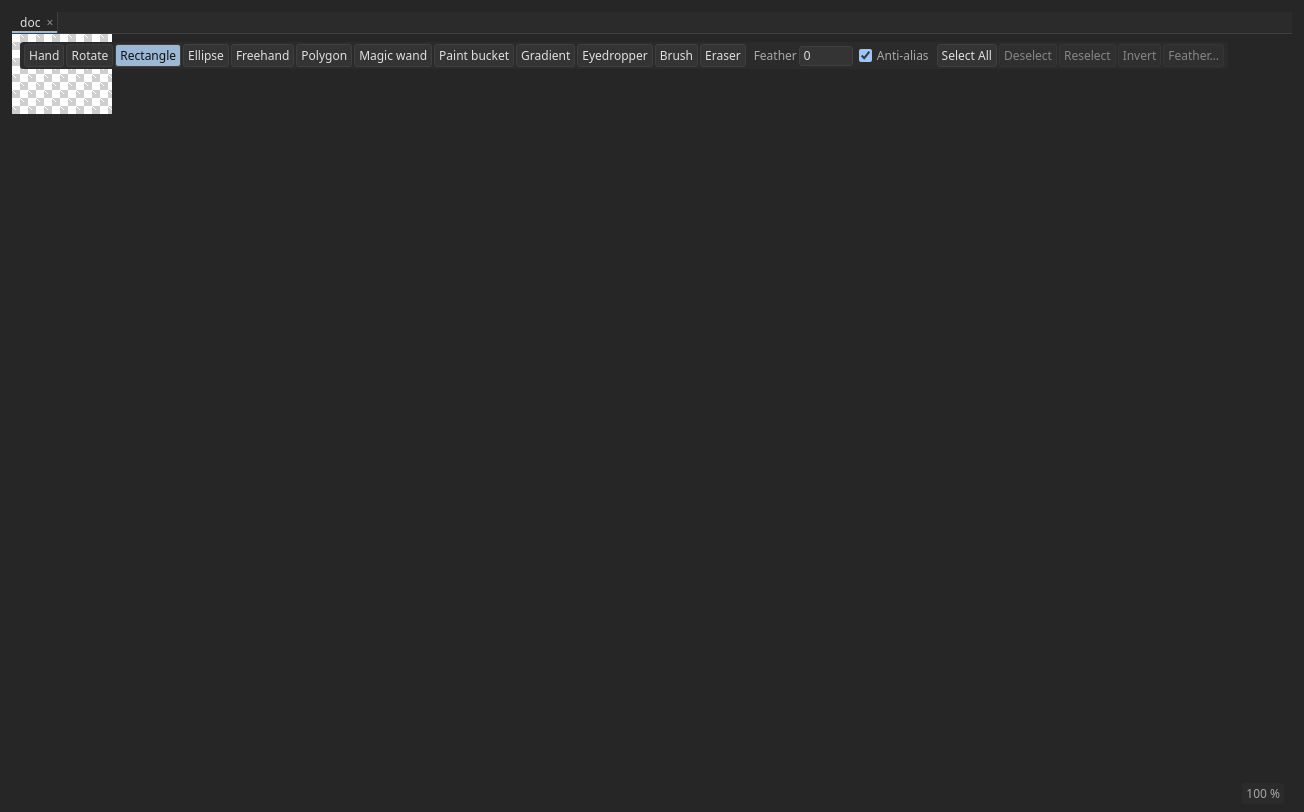
Test: EditorView gestures › Escape cancels a drag
The width and height of the screenshot is (1304, 812).
Step 1. Press the mouse on the element with test id "editor-viewport" → (652, 423), box top-left (12, 34), bottom-right (1292, 811)
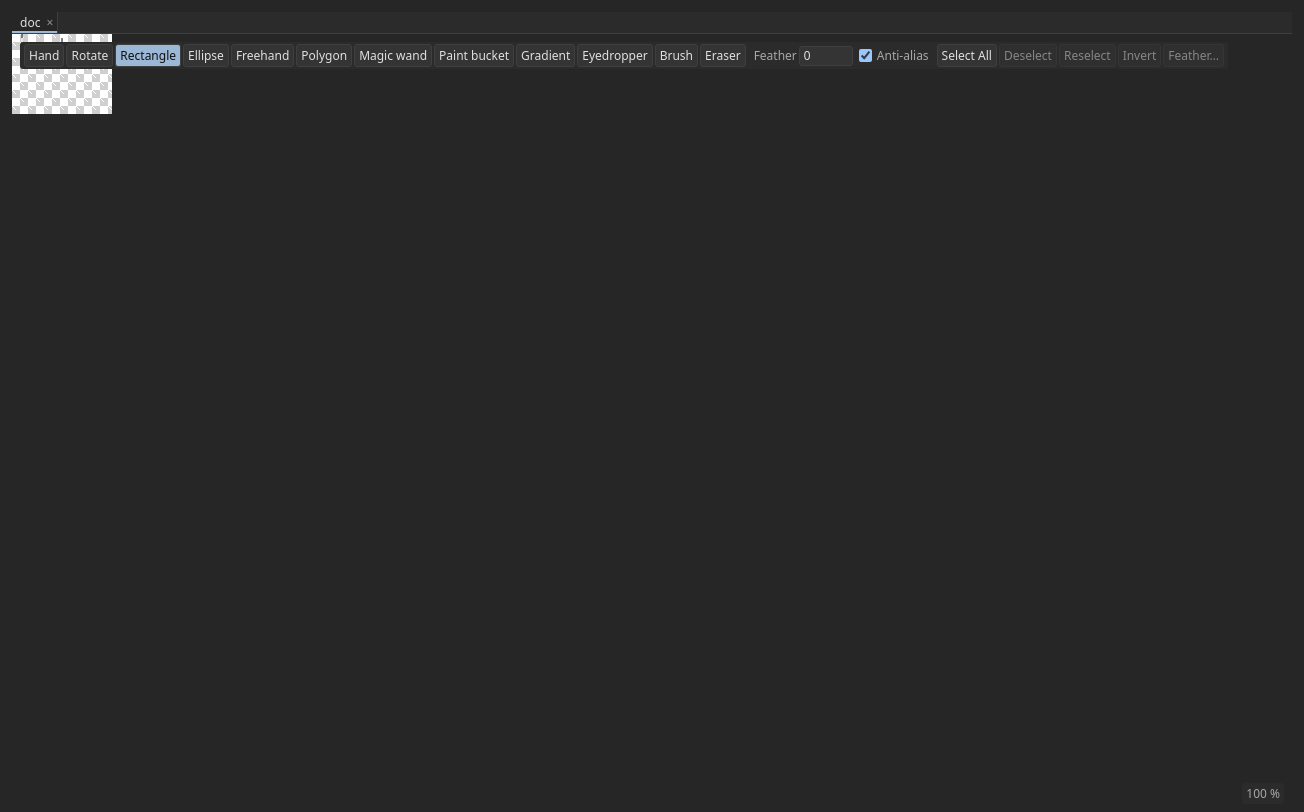
Step 2. Press Escape
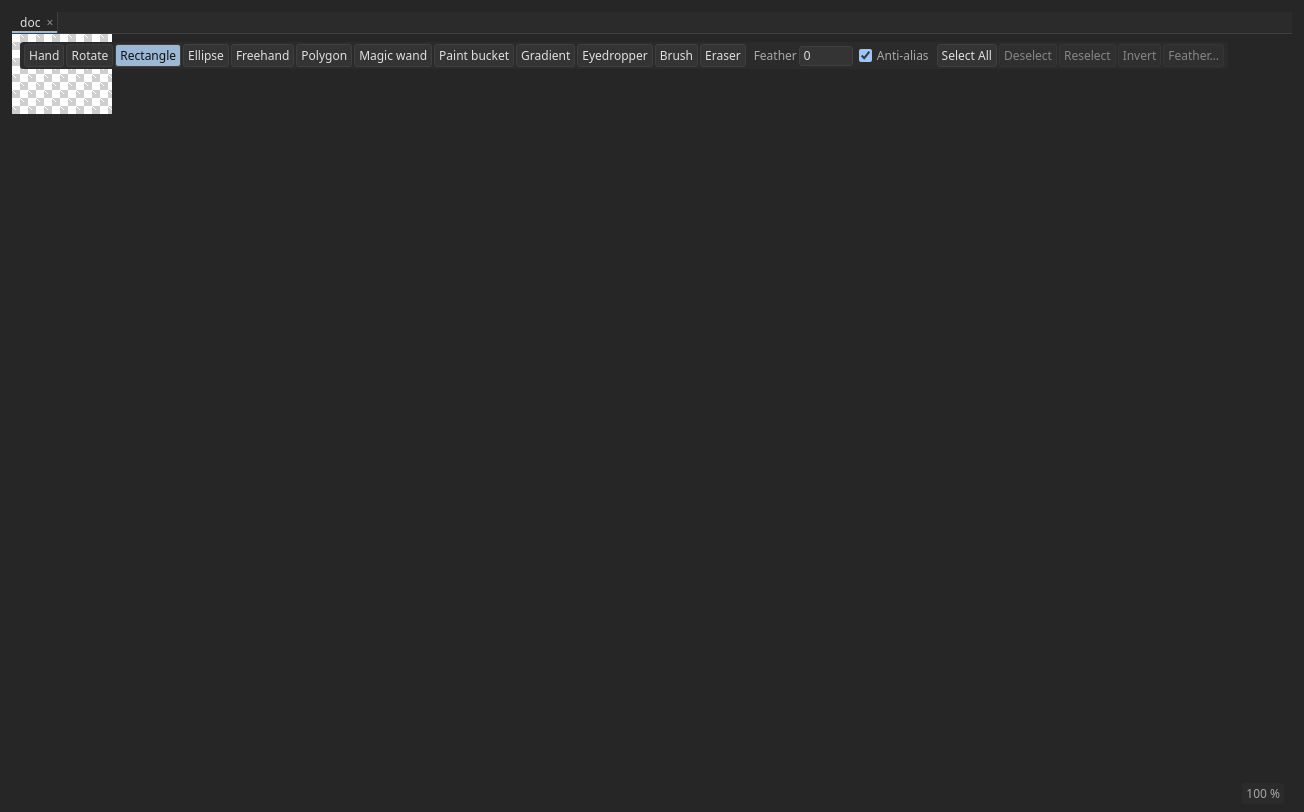
Expected: the icon with test id "selection-preview" is gone
